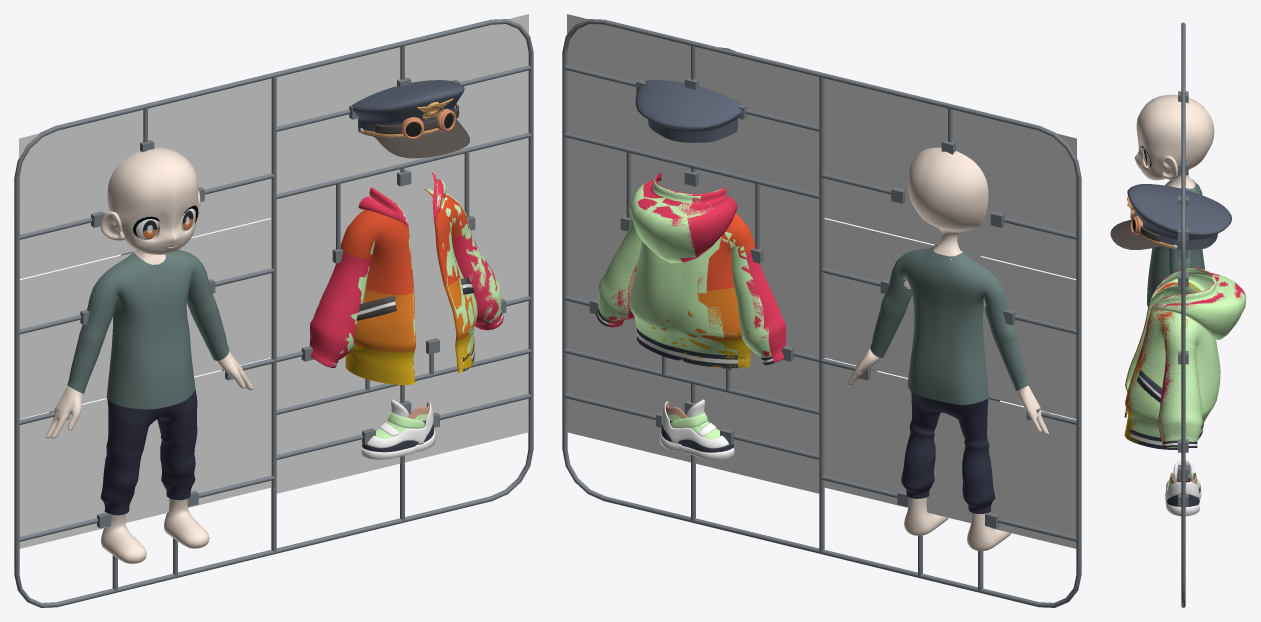
File: sprue_part.gltf
3 views of the same model, side by side, from view 1: azimuth 30°, elevation 25°; view 2: azimuth 150°, elevation 25°; view 3: azimuth 270°, elevation 25° (orthographic). The views are drawn at different scales.
Parts seen in each view (by area): view 1: Hit_Hoodie, Hit_Body, Sprue, Hit_Cap, Hit_Pants, Hoodie_Red, Hit_Shirt, Shirt, Hit_Shoe, Body, Pants, Cap (+2 smaller); view 2: Hit_Body, Hit_Hoodie, Sprue, Hit_Cap, Hit_Pants, Hit_Shirt, Hoodie, Hit_Shoe, Shirt, Hoodie_Red, Body, Pants (+2 smaller); view 3: Hoodie, Cap, Body, Sprue, Hoodie_Red, Shirt, Shoe.
Part boxes in pixels (x1,y1,x2,y2): Hit_Hoodie: (276,138,528,409); Hit_Body: (19,78,271,278); Sprue: (14,19,533,607); Hit_Cap: (276,14,528,193); Hit_Pants: (19,363,271,548); Hoodie_Red: (309,172,503,384); Hit_Shirt: (19,219,271,418); Shirt: (67,250,229,409); Hit_Shoe: (276,353,528,493); Body: (45,147,253,563); Pants: (100,389,197,515); Cap: (352,80,469,158); Hit_Body: (824,78,1076,278); Hit_Hoodie: (567,138,819,409); Sprue: (562,19,1081,607); Hit_Cap: (567,14,819,193); Hit_Pants: (824,363,1076,548); Hit_Shirt: (824,219,1076,418); Hoodie: (596,174,774,368); Hit_Shoe: (567,353,819,493); Shirt: (870,245,1028,404); Hoodie_Red: (604,172,786,367); Body: (846,147,1050,550); Pants: (901,392,999,513); Hoodie: (1124,268,1246,449); Cap: (1110,184,1231,249); Body: (1134,94,1214,188); Sprue: (1178,22,1188,607); Hoodie_Red: (1124,268,1245,447); Shirt: (1147,179,1204,306); Shoe: (1165,459,1201,516).
Size of the model in its own units: 8.2 by 7.27 by 2.24.
Materials: 26 (1 with a texture image).
